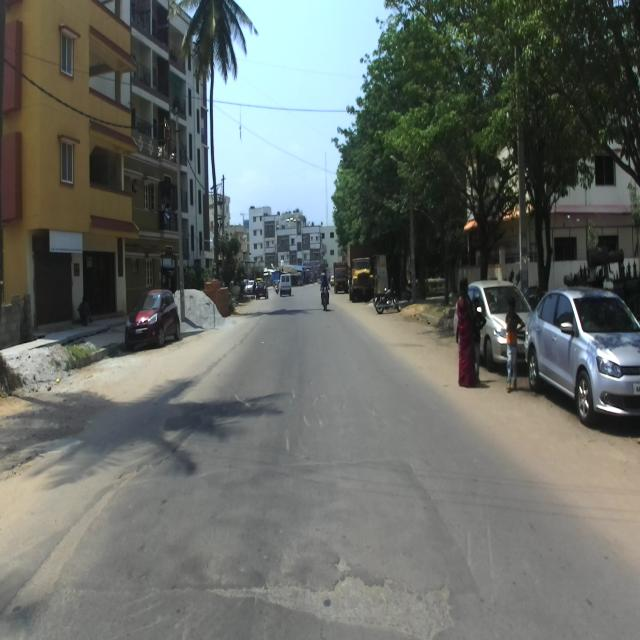car ahead at: (533, 281, 640, 429), (122, 283, 182, 347)
person ahead at: (452, 273, 486, 386), (500, 301, 528, 389)
